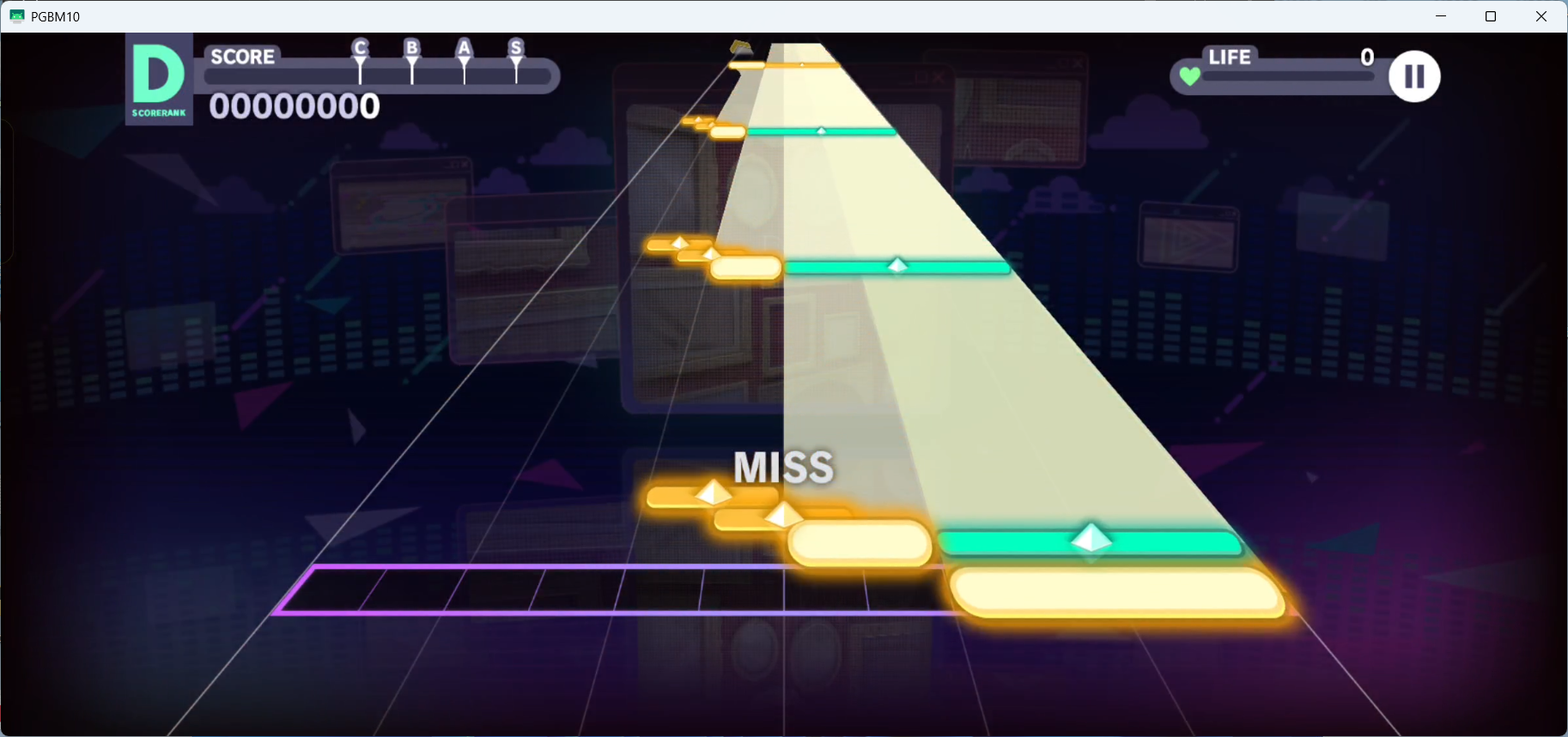flick: (730, 38, 754, 55)
hold: (785, 274, 1227, 529), (715, 136, 1006, 260), (714, 69, 893, 128), (767, 43, 836, 60)
sweep: (936, 520, 1243, 559), (715, 500, 851, 531), (784, 257, 1010, 275), (647, 479, 779, 509), (747, 126, 897, 136), (678, 247, 745, 262), (647, 235, 713, 249), (765, 61, 842, 68), (696, 122, 732, 130), (683, 116, 714, 124)
tap: (950, 567, 1286, 619), (787, 518, 931, 571), (708, 256, 781, 280), (710, 126, 745, 138), (729, 61, 764, 69)
